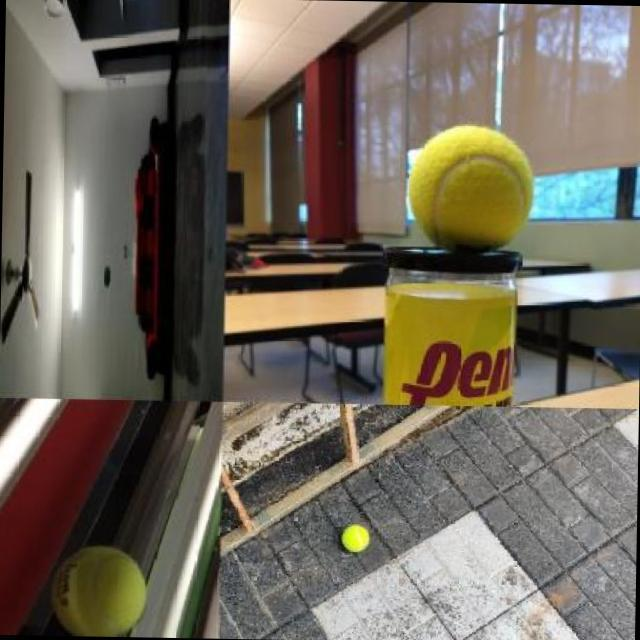-: (399, 121, 534, 266), (337, 489, 386, 574)
